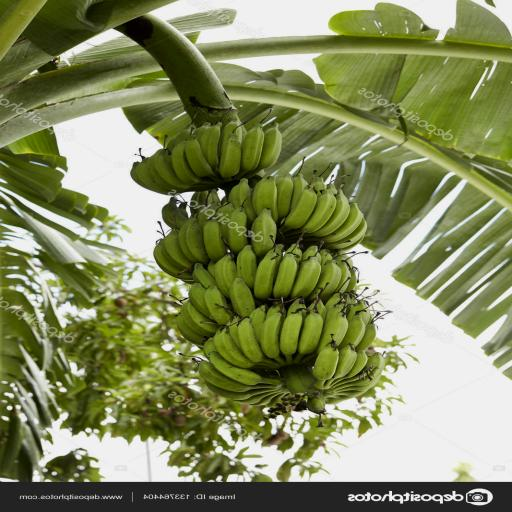banana-unripe: (114, 89, 409, 456)
